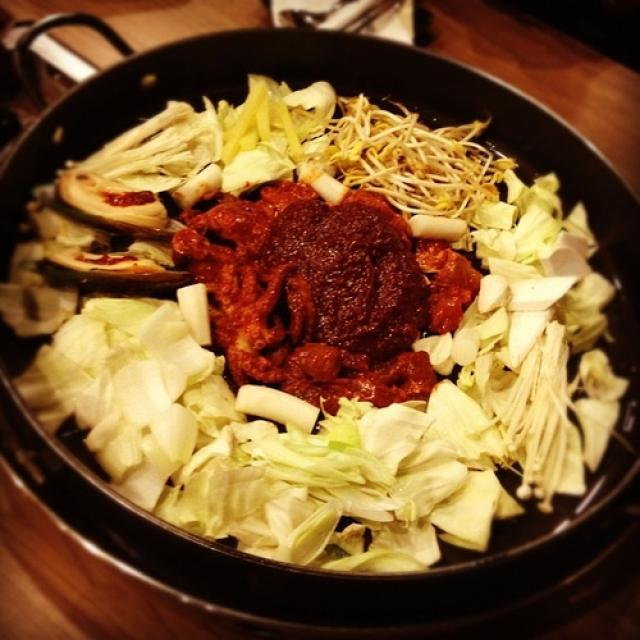鸡肉料理 含炸鸡: (1, 37, 638, 616)
